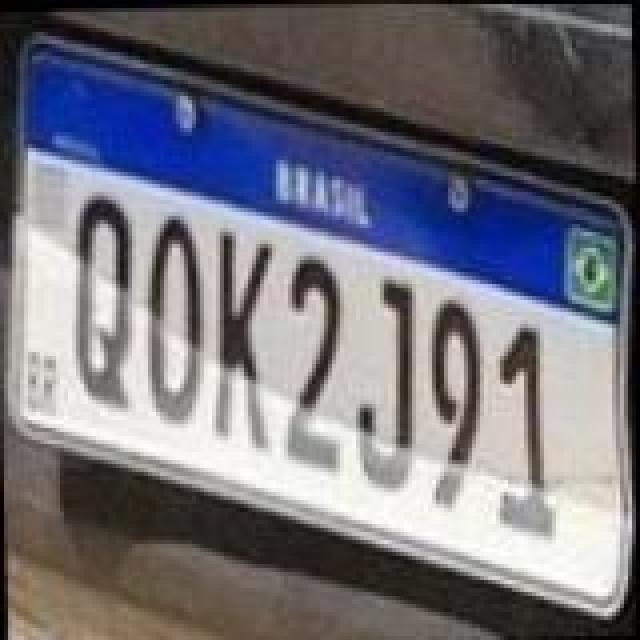1: (492, 322, 560, 542)
2: (276, 248, 348, 476)
9: (424, 300, 488, 512)
J: (350, 276, 418, 492)
K: (206, 224, 278, 456)
O: (140, 214, 208, 426)
Q: (66, 194, 138, 414)
